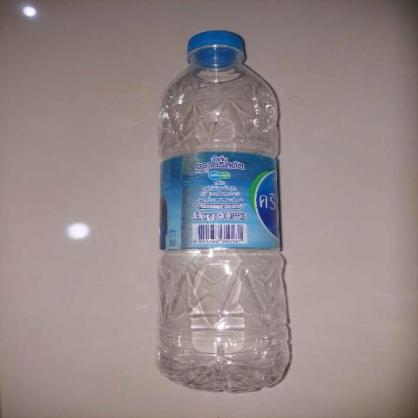bottle: (156, 28, 296, 397)
cap: (183, 32, 251, 60)
label: (161, 150, 283, 255)
